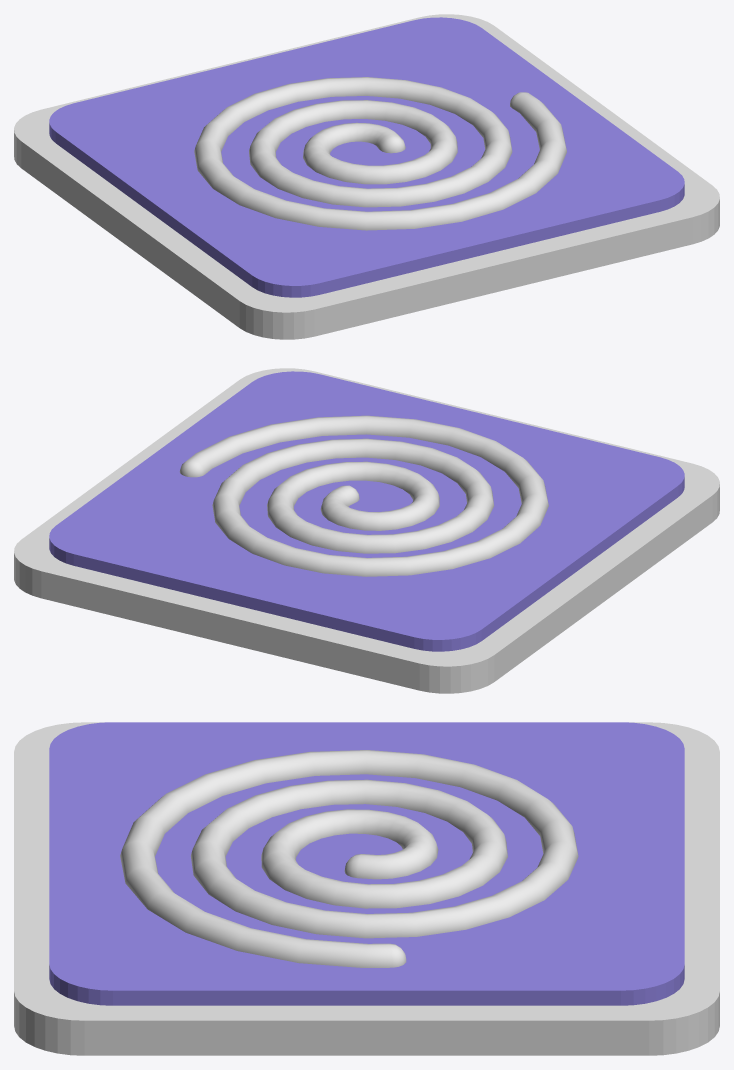
Rendered from PadType06.fbx.
3 views of the same model, one above another, from view 1: azimuth 30°, elevation 25°; view 2: azimuth 150°, elevation 25°; view 3: azimuth 270°, elevation 25° (orthographic). The views are drawn at different scales.
Parts seen in each view (by area): view 1: Cube.002, Cube.001, Spiral.001; view 2: Cube.002, Cube.001, Spiral.001; view 3: Cube.002, Cube.001, Spiral.001.
Part boxes in pixels (box(x1,y1,x2,y2)): Cube.002: box(49, 17, 684, 297); Cube.001: box(14, 14, 719, 339); Spiral.001: box(194, 77, 566, 230); Cube.002: box(49, 371, 684, 651); Cube.001: box(14, 368, 719, 693); Spiral.001: box(179, 415, 548, 576); Cube.002: box(49, 722, 684, 1005); Cube.001: box(14, 722, 719, 1055); Spiral.001: box(120, 750, 578, 967).
Bounding box in the file's own units: 200 × 20.52 × 200.
